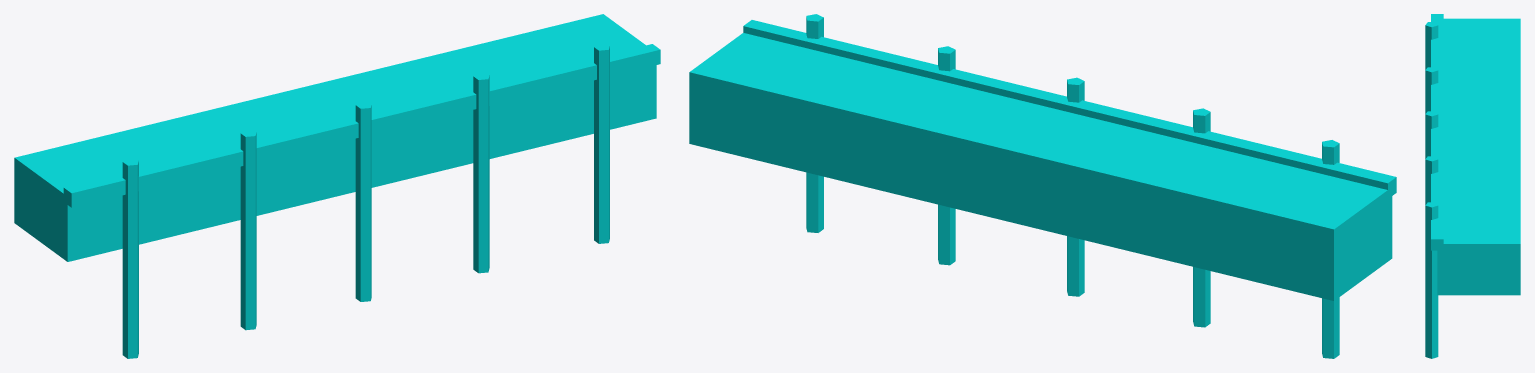
File: SM_Bld_Background_Dock_01_Collision.fbx
3 views of the same model, side by side, from view 1: azimuth 30°, elevation 25°; view 2: azimuth 150°, elevation 25°; view 3: azimuth 270°, elevation 25° (orthographic). The views are drawn at different scales.
Parts seen in each view (by area): view 1: SM_Bld_Background_Dock_01_Collision; view 2: SM_Bld_Background_Dock_01_Collision; view 3: SM_Bld_Background_Dock_01_Collision.
Boxes of the visible parts, <box> form: SM_Bld_Background_Dock_01_Collision: <box>14,14,660,358</box>; SM_Bld_Background_Dock_01_Collision: <box>689,14,1396,358</box>; SM_Bld_Background_Dock_01_Collision: <box>1425,14,1520,358</box>.
Bounding box in the file's own units: 2250 × 706 × 403.
